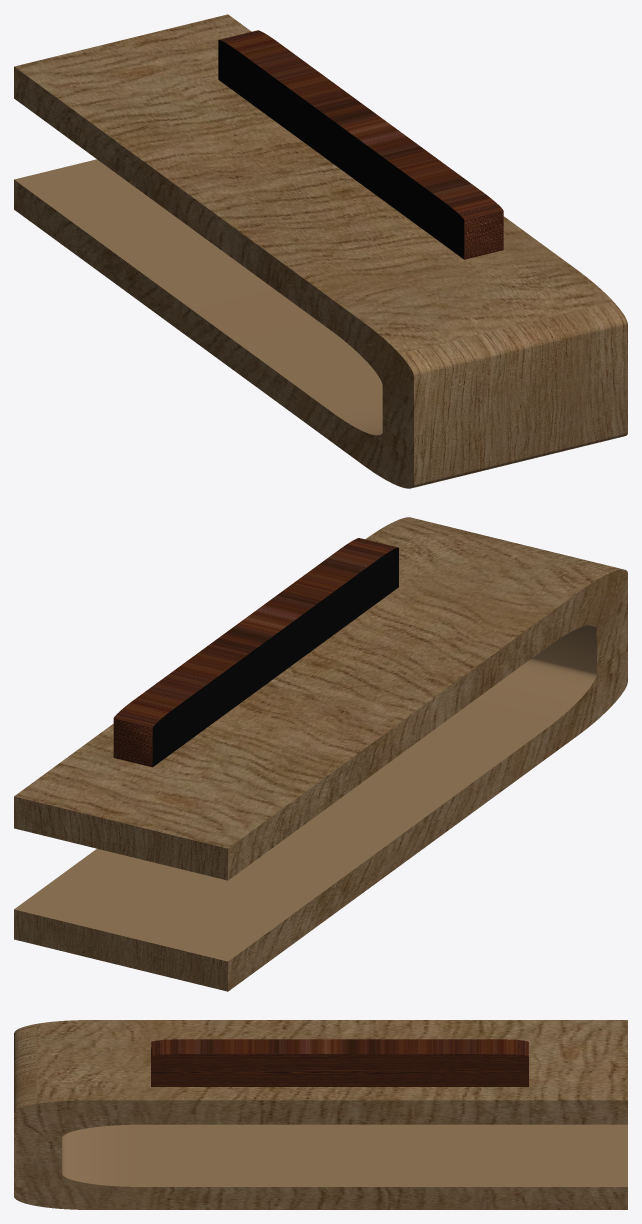
File: TvTable.glb
3 views of the same model, one above another, from view 1: azimuth 30°, elevation 25°; view 2: azimuth 150°, elevation 25°; view 3: azimuth 270°, elevation 25° (orthographic). The views are drawn at different scales.
Visible parts, largest first — view 1: Cube.004, Plane.061; view 2: Cube.004, Plane.061; view 3: Cube.004, Plane.061.
Boxes of the visible parts, x1=… form: Cube.004: x1=14, y1=14, x2=627, y2=488; Plane.061: x1=218, y1=30, x2=503, y2=259; Cube.004: x1=14, y1=517, x2=627, y2=991; Plane.061: x1=113, y1=538, x2=398, y2=767; Cube.004: x1=14, y1=1020, x2=627, y2=1209; Plane.061: x1=151, y1=1039, x2=528, y2=1086.
Size of the model in its own units: 9.83 by 8.16 by 31.8.
Materials: 3 (2 with a texture image).
